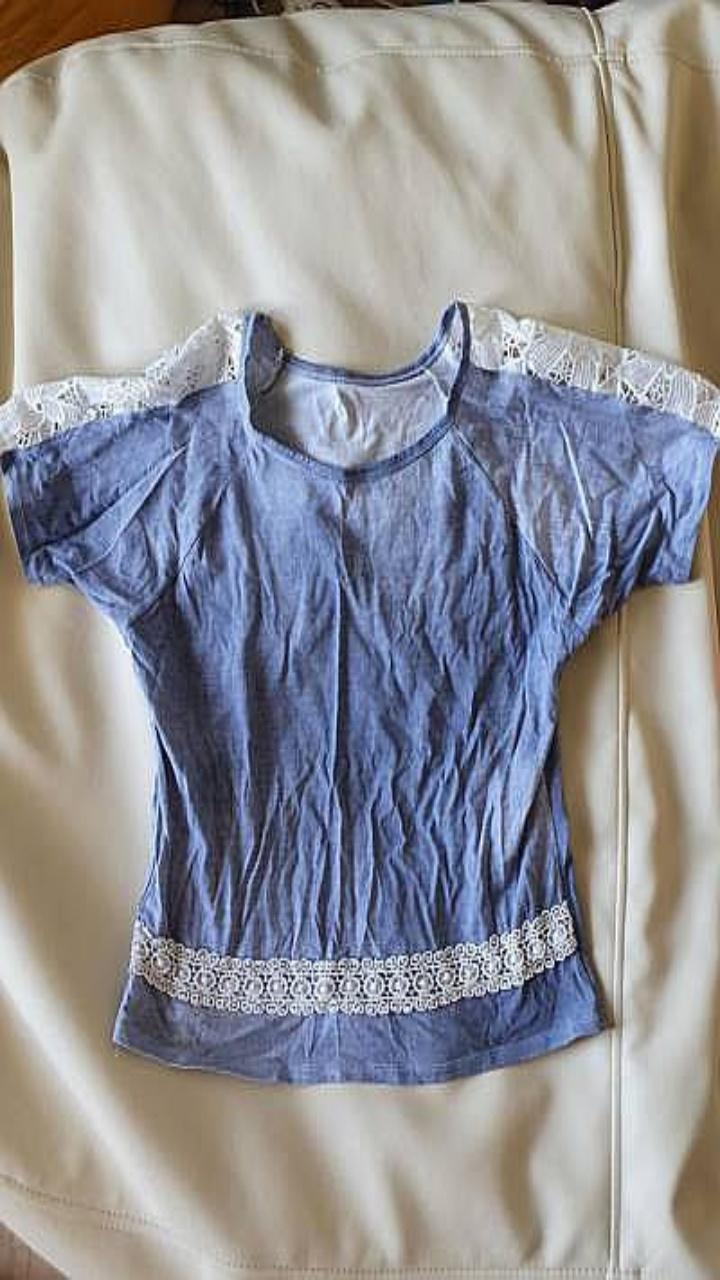T-Shirt: (0, 300, 719, 1083)
